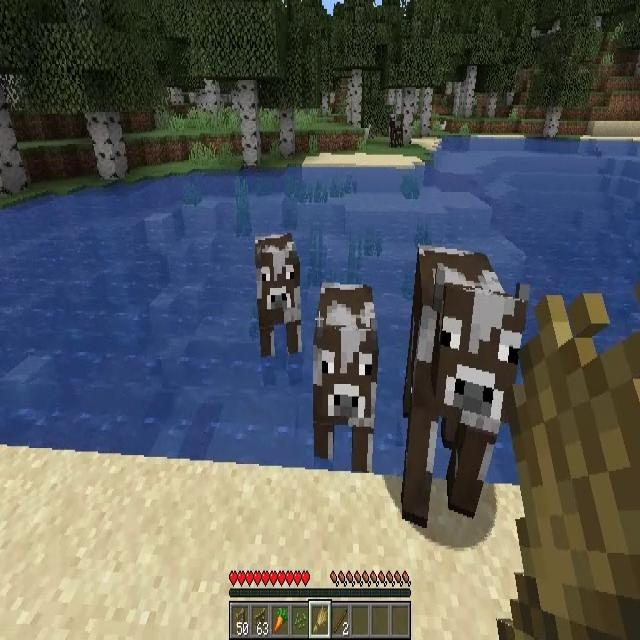cow: (398, 249, 524, 522), (311, 286, 377, 471), (256, 236, 301, 356), (389, 114, 403, 148)
